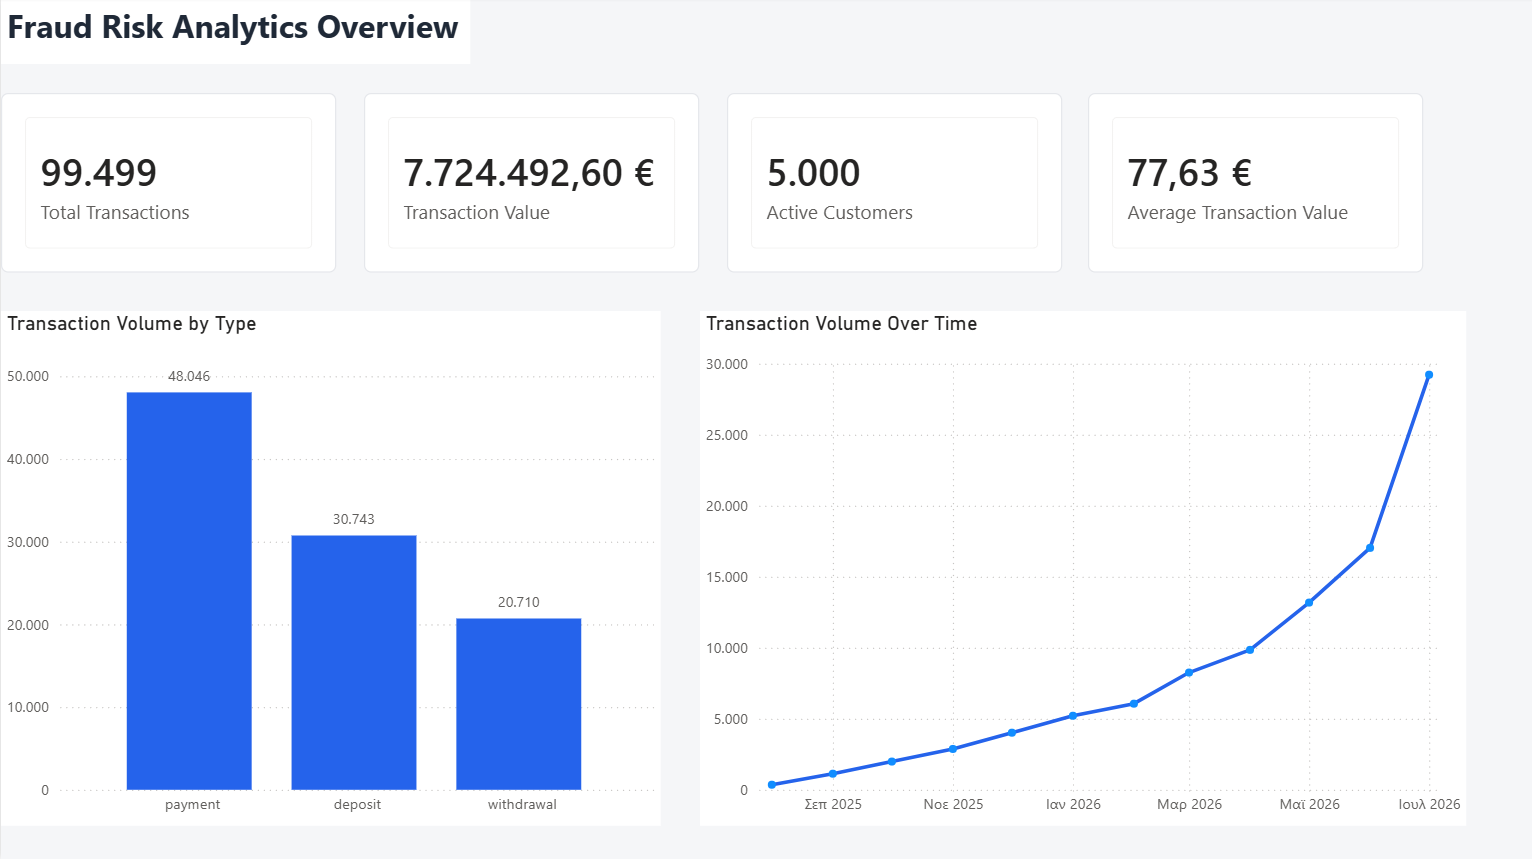

The dashboard page shown, as its layout file describes it:
{"tool":"powerbi","page":{"name":"Overview","canvas":[1280,720],"ordinal":0},"visuals":[{"type":"cardVisual","fields":{"Data":["transactions.Total Transactions"]},"box":[0,79.8,280.4,150.2],"z":0},{"type":"cardVisual","fields":{"Data":["transactions.Active Customers"]},"box":[606.2,79.8,280,150],"z":1000},{"type":"cardVisual","fields":{"Data":["transactions.Average Transaction Value"]},"box":[908.3,79.8,280.4,150],"z":2000},{"type":"cardVisual","fields":{"Data":["transactions.Transaction Value"]},"box":[303.1,79.8,280.4,150],"z":3000},{"type":"clusteredColumnChart","title":"Transaction Volume by Type","fields":{"Category":["transactions.transaction_type"],"Y":["transactions.Total Transactions"]},"box":[0,262.5,550.5,429.9],"z":4000},{"type":"lineChart","title":"Transaction Volume Over Time","fields":{"Category":["transactions.transaction_at.Variation.Date Hierarchy.Year","transactions.transaction_at.Variation.Date Hierarchy.Quarter","transactions.transaction_at.Variation.Date Hierarchy.Month","transactions.transaction_at.Variation.Date Hierarchy.Day"],"Y":["transactions.Total Transactions"]},"box":[583.8,262.5,640,429.9],"z":5000},{"type":"textbox","box":[0,0,391.7,55.7],"z":5001}]}

Visuals, with their boxes in screenshot pixels (x1, y1, x2, y2), scaled from the page's 1280x720 canvas onto the 1532x859 screenshot:
cardVisual - transactions.Total Transactions: 0:95:336:274
cardVisual - transactions.Active Customers: 726:95:1061:274
cardVisual - transactions.Average Transaction Value: 1087:95:1423:274
cardVisual - transactions.Transaction Value: 363:95:698:274
"Transaction Volume by Type" clusteredColumnChart: 0:313:659:826
"Transaction Volume Over Time" lineChart: 699:313:1465:826
textbox: 0:0:469:66
